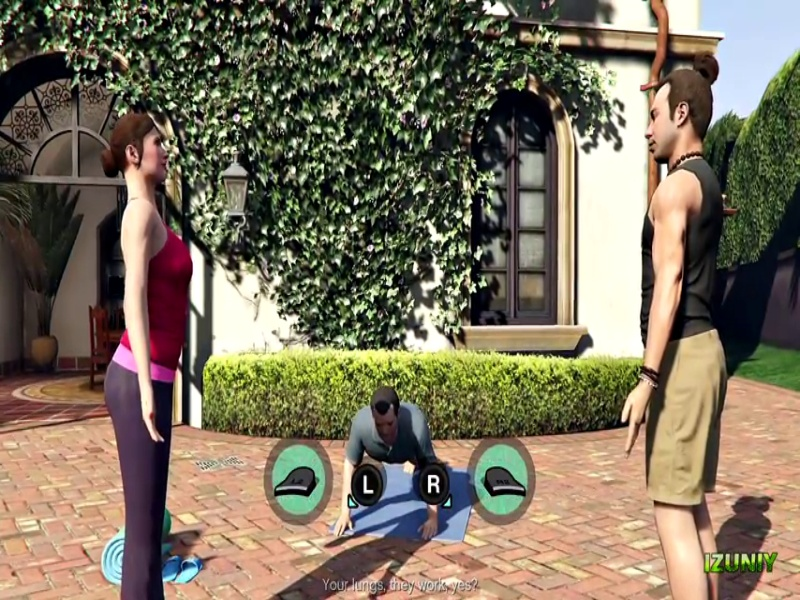licenseplate: (455, 345, 532, 383)
